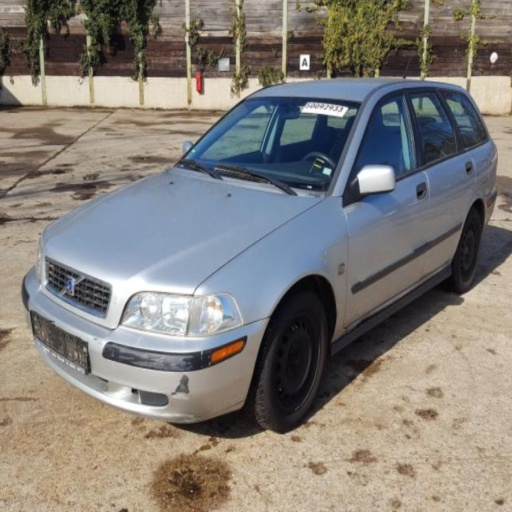rust: (332, 257, 453, 343)
